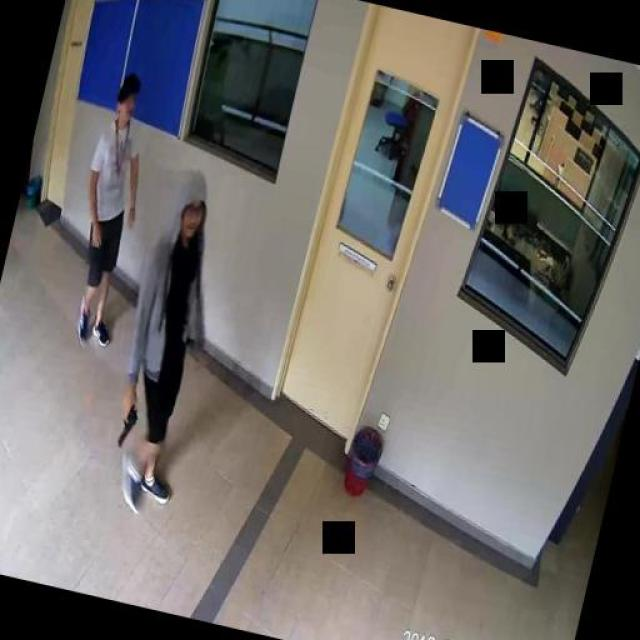gun: (114, 398, 140, 448)
